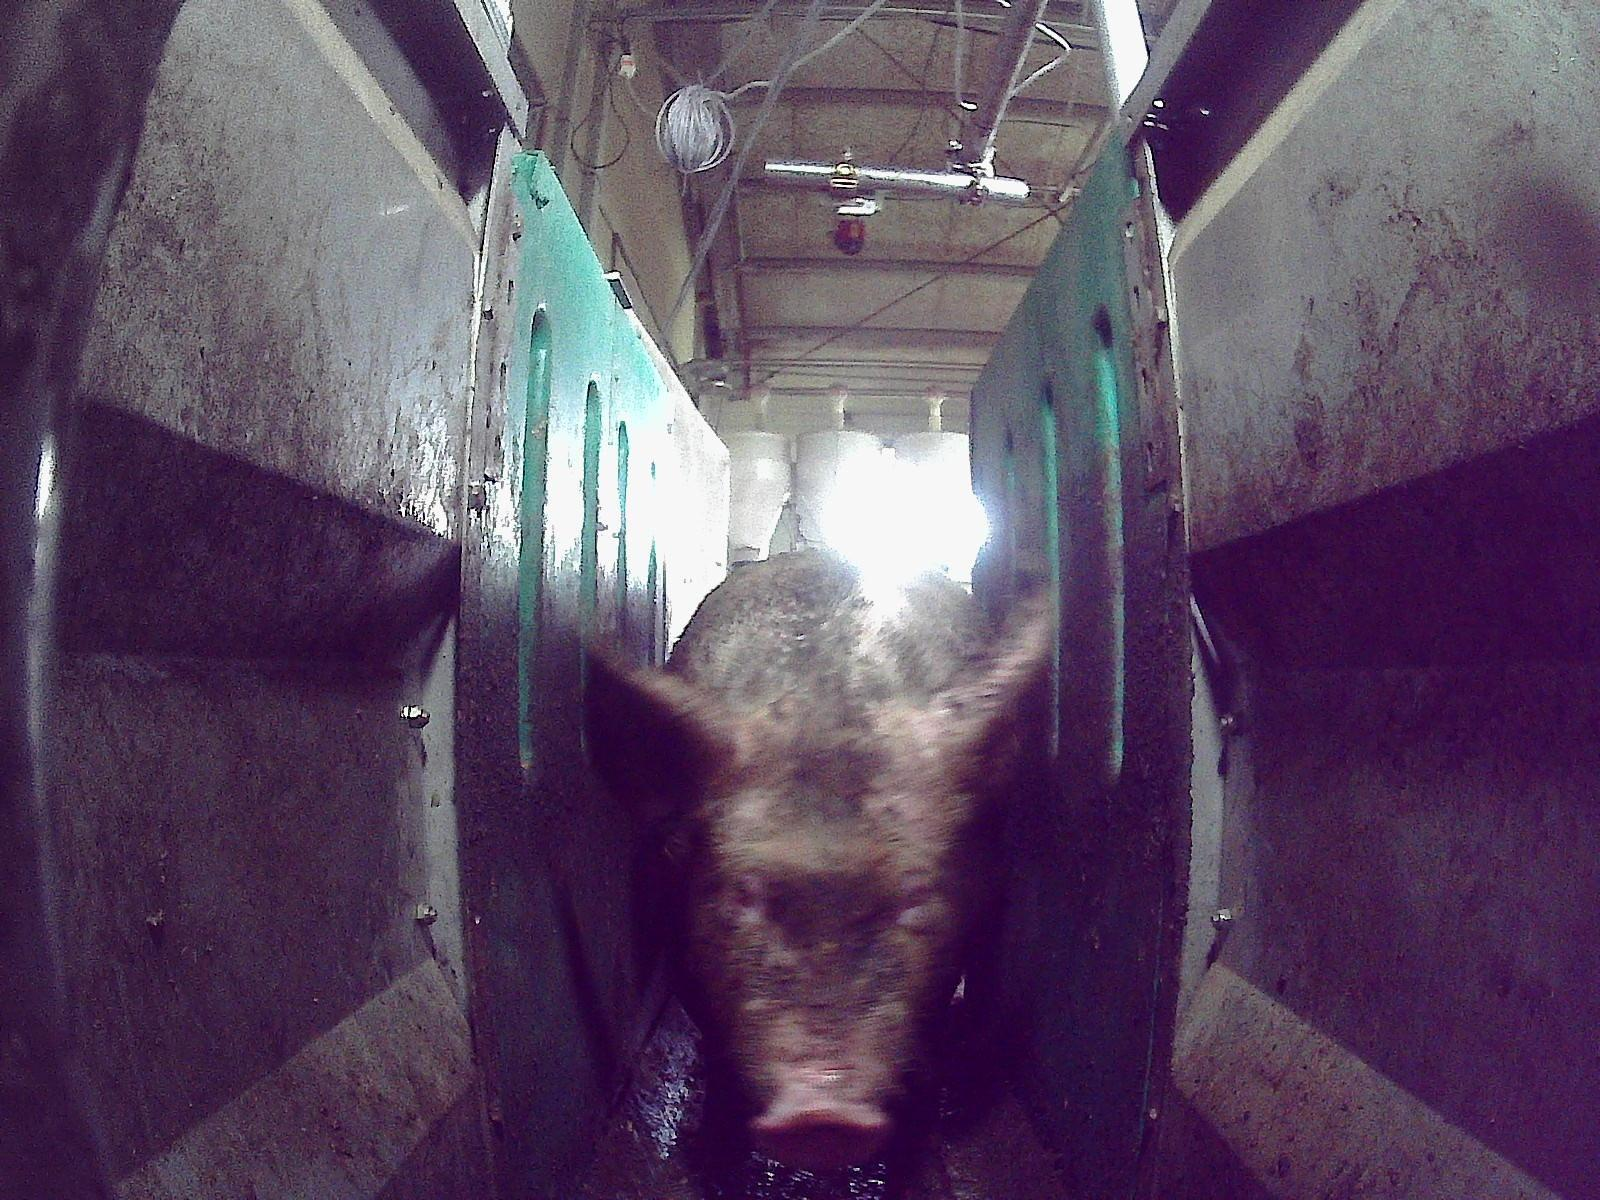Face: (660, 682, 963, 1170)
